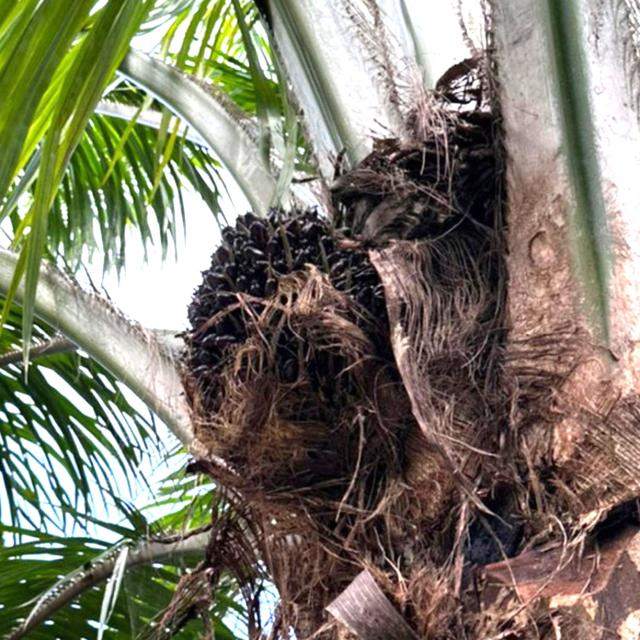almost: (163, 185, 405, 477)
